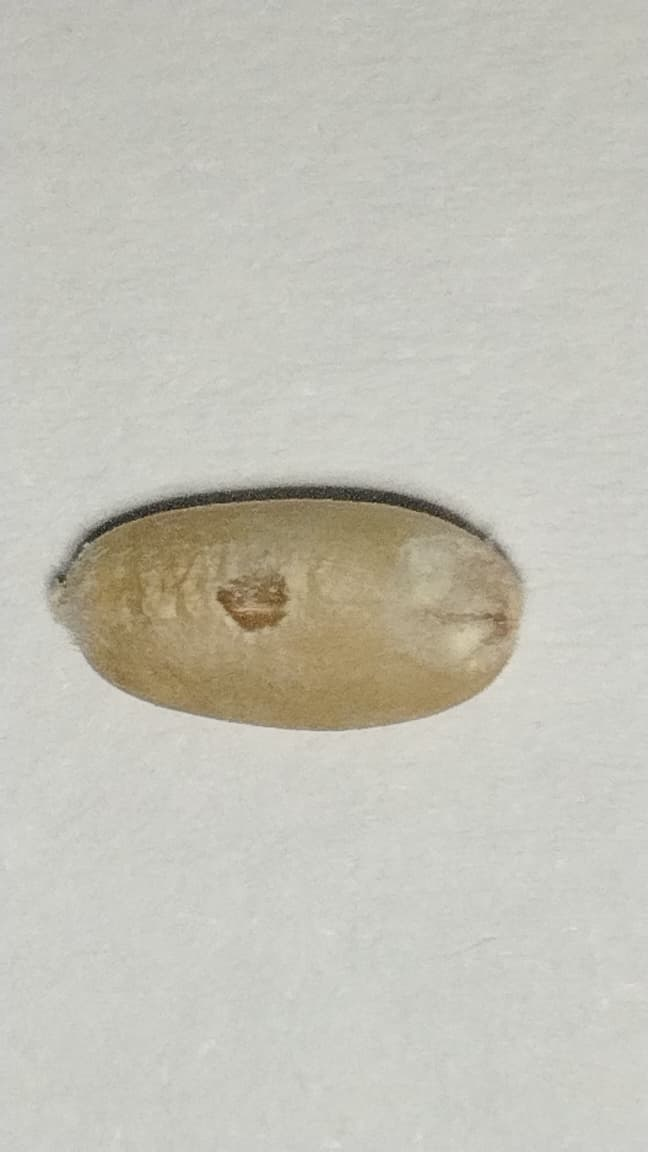damage: (84, 500, 523, 732)
insectdamage: (385, 531, 520, 675), (206, 567, 293, 635)
